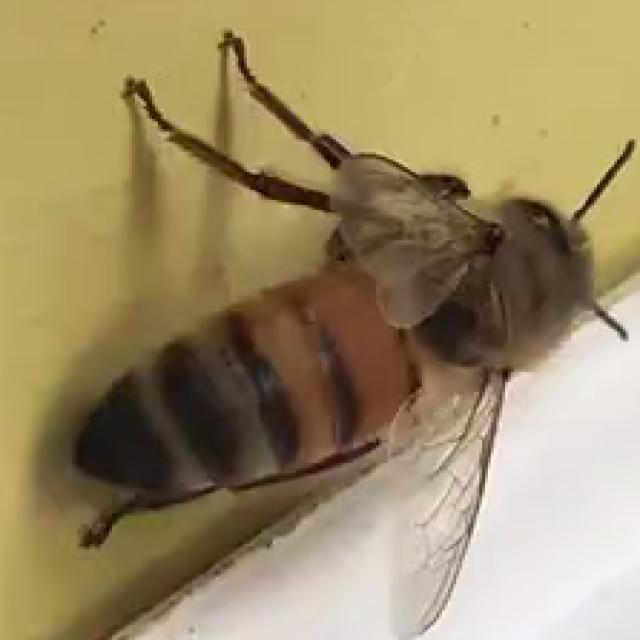honeybee: (71, 37, 640, 558)
